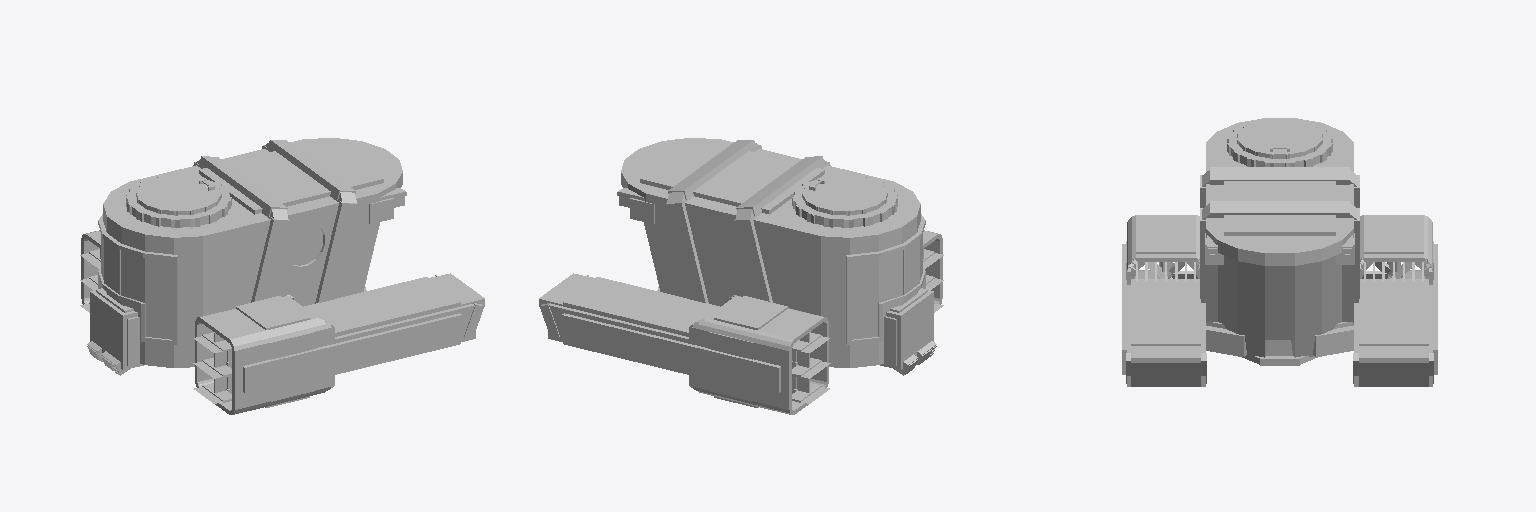
Rendered from Uboot.obj.
3 renders of one model, left to right at view 1: azimuth 30°, elevation 25°; view 2: azimuth 150°, elevation 25°; view 3: azimuth 270°, elevation 25°, orthographic.
Visible parts, largest first — view 1: hexadecagon.150; view 2: hexadecagon.150; view 3: hexadecagon.150.
Boxes of the visible parts, x1=… form: hexadecagon.150: x1=80, y1=138, x2=484, y2=414; hexadecagon.150: x1=539, y1=138, x2=943, y2=414; hexadecagon.150: x1=1122, y1=118, x2=1437, y2=386.
Size of the model in its own units: 14.69 by 7.66 by 12.95.